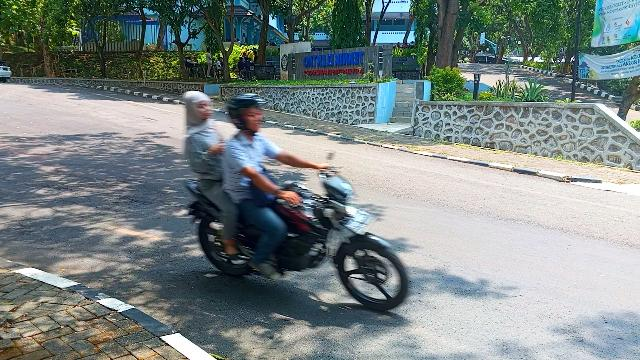helm: (226, 94, 270, 136)
motor: (182, 148, 412, 312)
non-helm: (184, 91, 215, 124)
